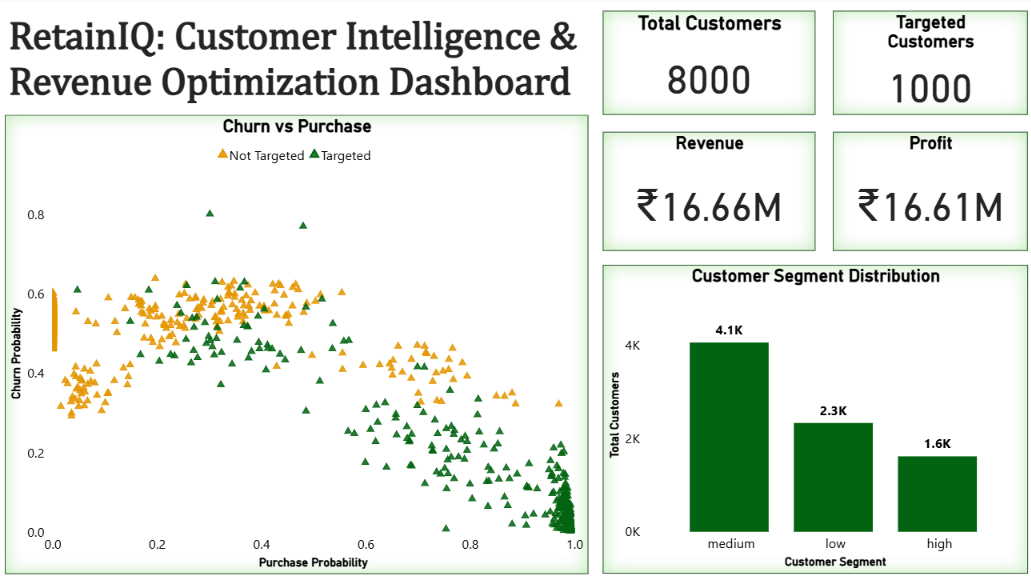

The page's visual inventory and layout, read from the dashboard file:
{"tool":"powerbi","page":{"name":"crros_dashboard","canvas":[1280,720],"ordinal":0},"visuals":[{"type":"card","title":"Total Customers","fields":{"Values":["dashboard_dataset.Total Customers"]},"box":[745.4,16.6,260.1,127.5],"z":0},{"type":"card","title":"Targeted Customers","fields":{"Values":["dashboard_dataset.Targeted Customers"]},"box":[1027,16.6,238.5,127.5],"z":1000},{"type":"card","title":"Revenue","fields":{"Values":["dashboard_dataset.Revenue"]},"box":[745.4,165.6,260.1,145.8],"z":2000},{"type":"card","title":"Profit","fields":{"Values":["dashboard_dataset.Profit"]},"box":[1027,165.6,238.5,145.8],"z":3000},{"type":"columnChart","title":"Customer Segment Distribution","fields":{"Category":["dashboard_dataset.customer_segment"],"Y":["CountNonNull(dashboard_dataset.customer_id)"]},"box":[745.4,328,520.1,377.7],"z":4000},{"type":"scatterChart","title":"Churn vs Purchase","fields":{"Series":["dashboard_dataset.Selected Label"],"X":["dashboard_dataset.purchase_prob"],"Y":["dashboard_dataset.churn_prob"]},"box":[14.9,144.1,713.9,561.5],"z":5000},{"type":"textbox","box":[14.9,16.6,713.9,127.5],"z":6000}]}

Visuals, with their boxes in screenshot pixels (x1, y1, x2, y2), scaled from the page's 1280x720 canvas onto the 1031x577 screenshot:
"Total Customers" card: {"left": 600, "top": 13, "right": 810, "bottom": 115}
"Targeted Customers" card: {"left": 827, "top": 13, "right": 1019, "bottom": 115}
"Revenue" card: {"left": 600, "top": 133, "right": 810, "bottom": 250}
"Profit" card: {"left": 827, "top": 133, "right": 1019, "bottom": 250}
"Customer Segment Distribution" columnChart: {"left": 600, "top": 263, "right": 1019, "bottom": 566}
"Churn vs Purchase" scatterChart: {"left": 12, "top": 115, "right": 587, "bottom": 565}
textbox: {"left": 12, "top": 13, "right": 587, "bottom": 115}
